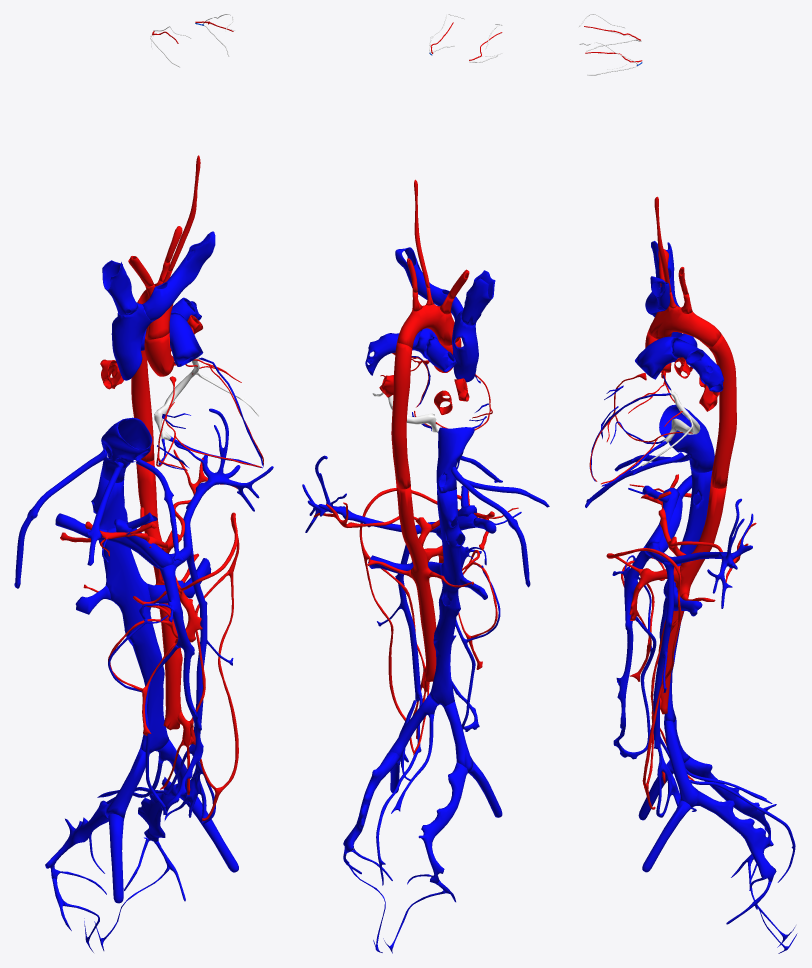
Rendered from vh_m_blood_vasculature-20.fbx.
3 renders of one model, left to right at view 1: azimuth 30°, elevation 25°; view 2: azimuth 150°, elevation 25°; view 3: azimuth 270°, elevation 25°, orthographic. The views are drawn at different scales.
Parts seen in each view (by area): view 1: VH_M_inferior_vena_cava_b, VH_M_descending_aorta_b, VH_M_superior_mesenteric_vein, VH_M_splenic_vein, VH_M_inferior_vena_cava_a, VH_M_brachiocephalic_vein_L, VH_M_superior_vena_cava, VH_M_marginal_artery_of_Drummond, VH_M_descending_aorta_a, VH_M_brachiocephalic_vein_R, VH_M_inferior_mesenteric_vein, VH_M_pulmonary_trunk (+18 smaller); view 2: VH_M_inferior_vena_cava_b, VH_M_descending_aorta_b, VH_M_descending_aorta_a, VH_M_inferior_vena_cava_a, VH_M_internal_iliac_vein_R, VH_M_aortic_arch, VH_M_superior_vena_cava, VH_M_splenic_vein, VH_M_internal_iliac_vein_L, VH_M_brachiocephalic_vein_R, VH_M_brachiocephalic_vein_L, VH_M_marginal_artery_of_Drummond (+8 smaller); view 3: VH_M_descending_aorta_a, VH_M_descending_aorta_b, VH_M_inferior_vena_cava_b, VH_M_inferior_vena_cava_a, VH_M_internal_iliac_vein_L, VH_M_aortic_arch, VH_M_splenic_vein, VH_M_superior_mesenteric_vein, VH_M_pulmonary_artery_L, VH_M_inferior_mesenteric_vein, VH_M_internal_iliac_vein_R, VH_M_marginal_artery_of_Drummond (+12 smaller).
Part boxes in pixels (<box>): VH_M_inferior_vena_cava_b: <box>91,473,168,753</box>; VH_M_descending_aorta_b: <box>136,460,182,730</box>; VH_M_superior_mesenteric_vein: <box>158,564,203,811</box>; VH_M_splenic_vein: <box>170,408,273,567</box>; VH_M_inferior_vena_cava_a: <box>101,417,152,482</box>; VH_M_brachiocephalic_vein_L: <box>142,231,215,321</box>; VH_M_superior_vena_cava: <box>111,302,152,380</box>; VH_M_marginal_artery_of_Drummond: <box>179,512,239,821</box>; VH_M_descending_aorta_a: <box>131,297,154,461</box>; VH_M_brachiocephalic_vein_R: <box>102,260,137,315</box>; VH_M_inferior_mesenteric_vein: <box>186,548,207,755</box>; VH_M_pulmonary_trunk: <box>169,313,203,366</box>; VH_M_inferior_vena_cava_b: <box>429,487,465,707</box>; VH_M_descending_aorta_b: <box>396,486,436,682</box>; VH_M_descending_aorta_a: <box>391,343,412,489</box>; VH_M_inferior_vena_cava_a: <box>436,427,474,493</box>; VH_M_internal_iliac_vein_R: <box>418,762,468,883</box>; VH_M_aortic_arch: <box>397,304,459,348</box>; VH_M_superior_vena_cava: <box>452,310,478,382</box>; VH_M_splenic_vein: <box>302,455,440,534</box>; VH_M_internal_iliac_vein_L: <box>343,752,399,852</box>; VH_M_brachiocephalic_vein_R: <box>461,270,495,325</box>; VH_M_brachiocephalic_vein_L: <box>395,247,463,319</box>; VH_M_marginal_artery_of_Drummond: <box>359,488,437,753</box>; VH_M_descending_aorta_a: <box>709,334,736,488</box>; VH_M_descending_aorta_b: <box>657,485,726,714</box>; VH_M_inferior_vena_cava_b: <box>659,470,712,722</box>; VH_M_inferior_vena_cava_a: <box>659,404,714,472</box>; VH_M_internal_iliac_vein_L: <box>696,790,776,881</box>; VH_M_aortic_arch: <box>647,306,721,348</box>; VH_M_splenic_vein: <box>645,498,753,608</box>; VH_M_superior_mesenteric_vein: <box>613,545,651,753</box>; VH_M_pulmonary_artery_L: <box>670,338,723,392</box>; VH_M_inferior_mesenteric_vein: <box>653,561,673,749</box>; VH_M_internal_iliac_vein_R: <box>684,757,776,847</box>; VH_M_marginal_artery_of_Drummond: <box>606,548,681,809</box>.
Bounding box in the file's own units: 23.62 × 87.18 × 18.72.
